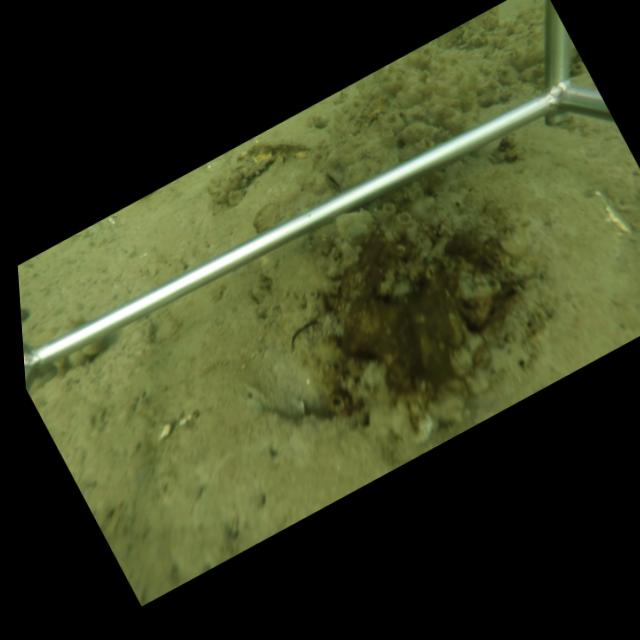Oyster-Closed: (233, 139, 311, 161)
Oyster-Open: (282, 315, 326, 353), (321, 164, 345, 193)
